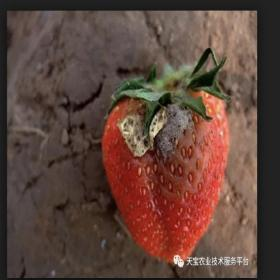Gray Mold: (114, 98, 218, 201)
